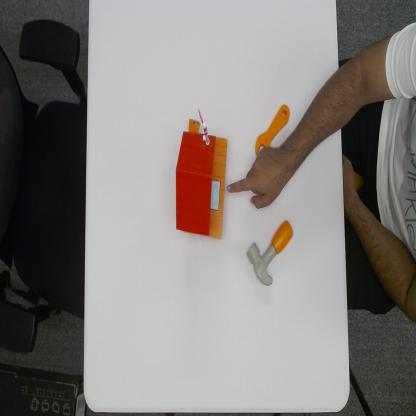Arm: (294, 87, 343, 168)
Hammer: (245, 216, 295, 288)
Hand: (227, 147, 292, 210)
House: (174, 107, 228, 241)
Screwdriver: (254, 102, 290, 156)
